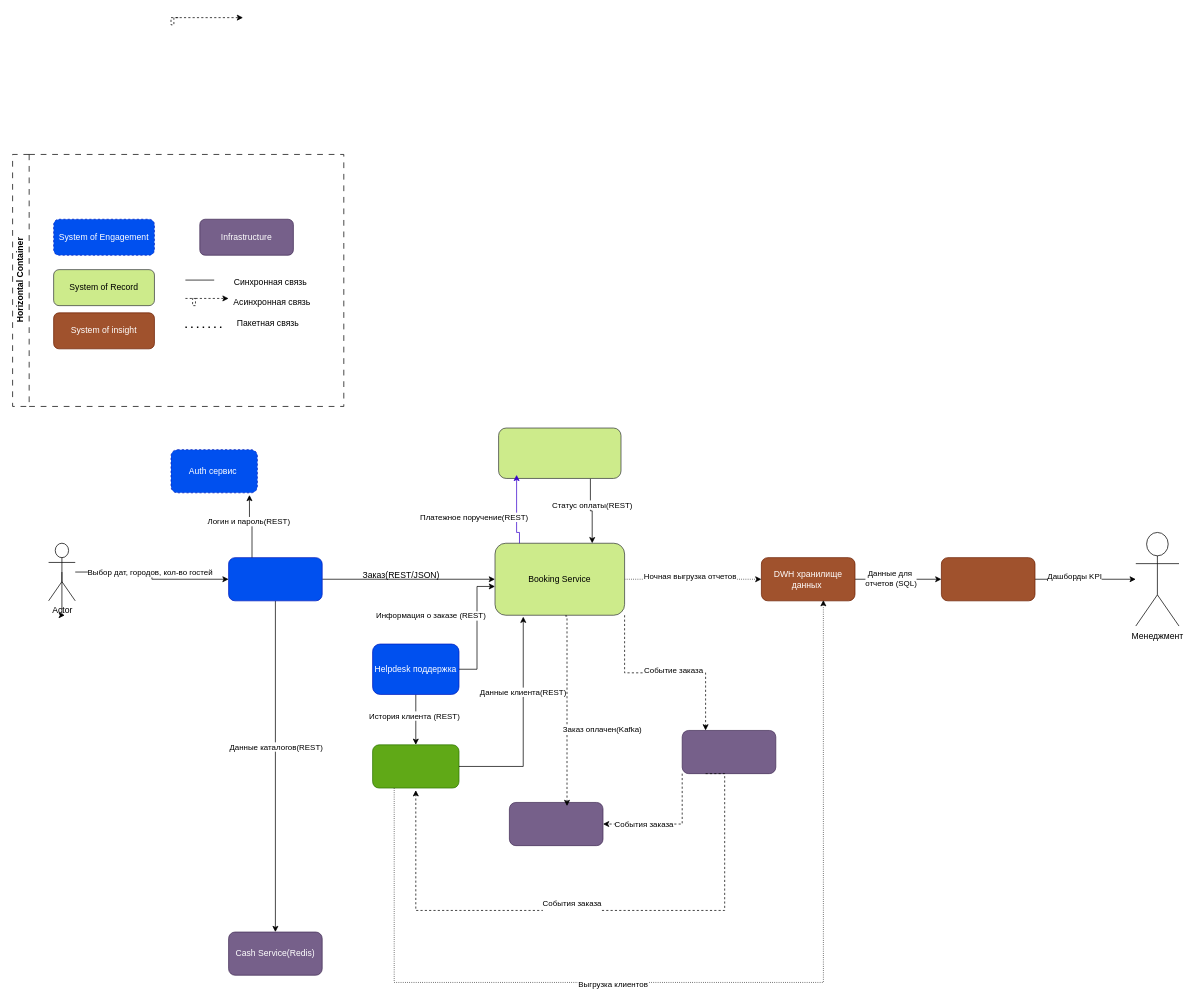
This 1196x1002 diagram has some shape labels left out. The centre of each missing label's shape, as x and y in pixels:
"BI Platform" goes at (x=988, y=579).
"CRM , профиль пользователя" goes at (x=415, y=766).
"Email Service" goes at (x=556, y=824).
"Message Broker" goes at (x=728, y=752).
"Витрина CMS" goes at (x=275, y=579).
"Платежный шлюз, прием платежей" goes at (x=559, y=452).
